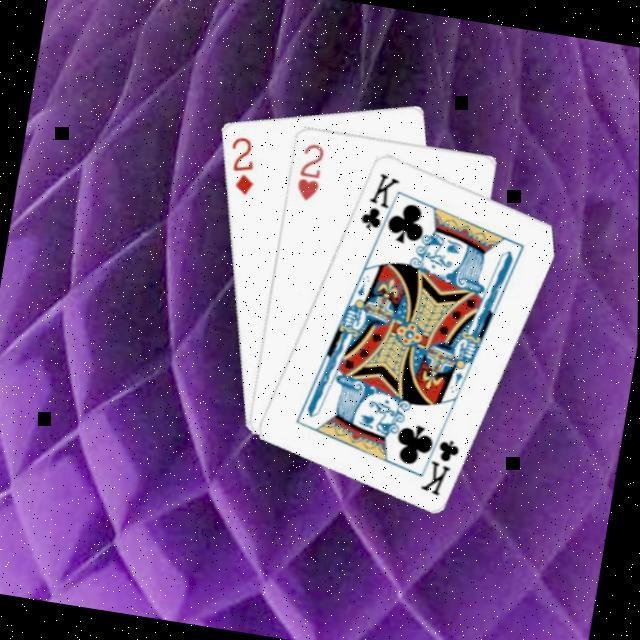2D: (221, 132, 265, 201)
2H: (292, 139, 329, 206)
KC: (414, 423, 467, 501), (355, 168, 407, 246)
